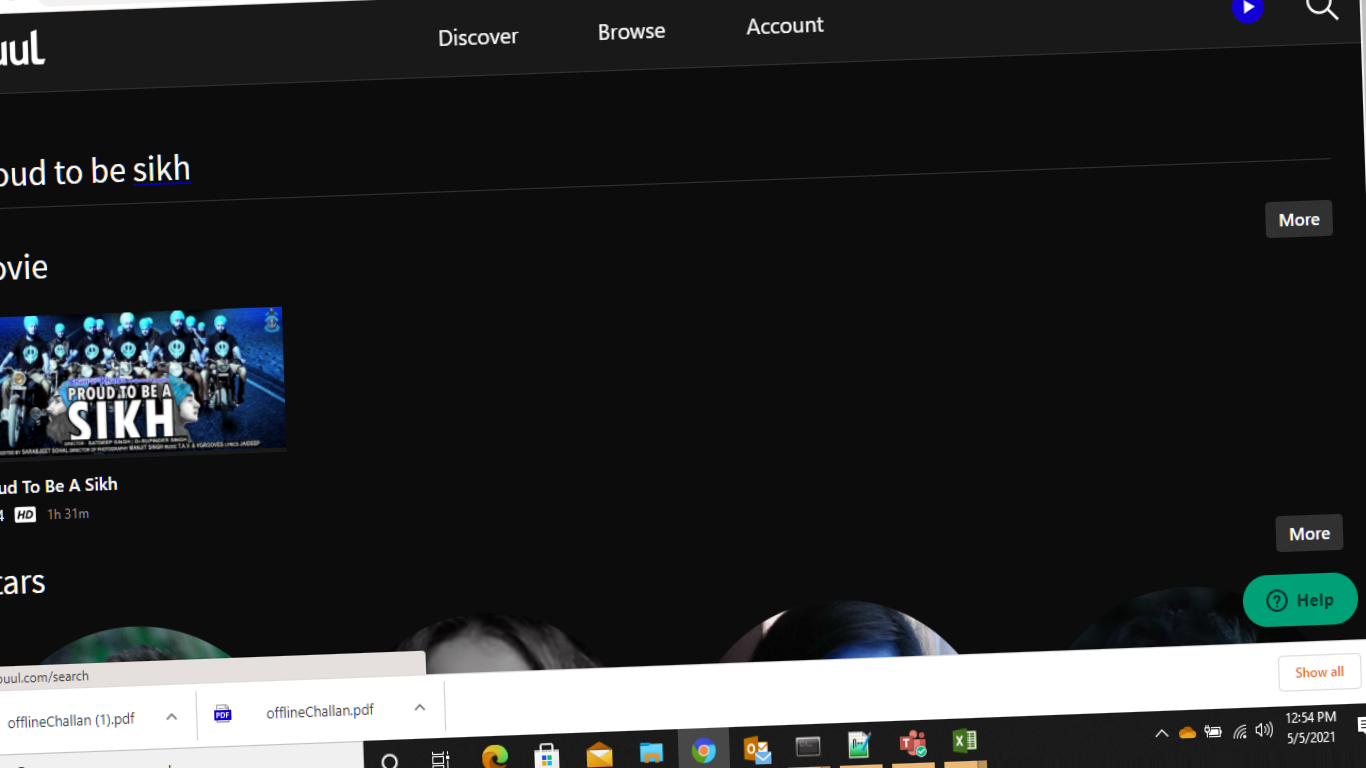myaccountbutton: (732, 6, 833, 60)
resultsfound: (1, 254, 84, 306)
searchicon: (1307, 1, 1345, 38)
searchtextbox: (1, 109, 1333, 197)
